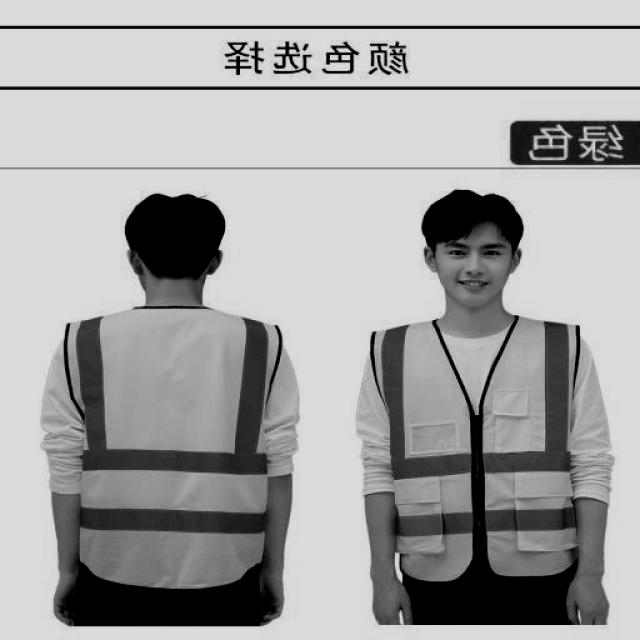face_nomask: (433, 231, 513, 303)
hand_noglove: (563, 576, 616, 630), (367, 578, 421, 630), (244, 571, 292, 627), (48, 575, 84, 627)
head_nohelmet: (119, 185, 232, 264), (416, 186, 536, 249)
person: (30, 182, 315, 638), (343, 184, 617, 626)
vest: (57, 309, 299, 590), (367, 310, 586, 588)
